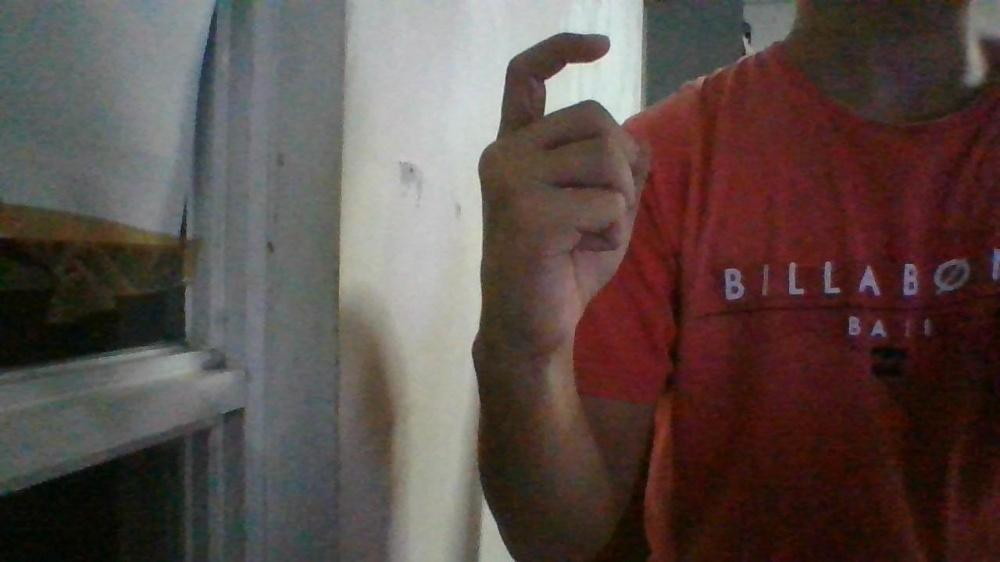x: (477, 33, 653, 354)
